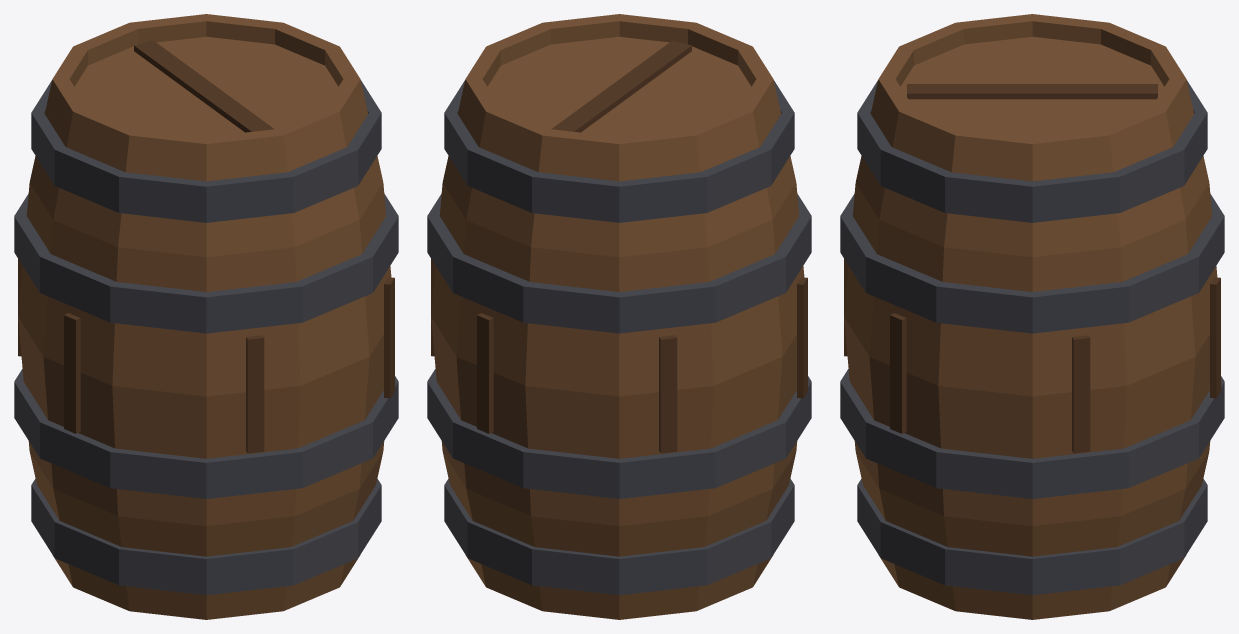
File: env_barrel.glb
The picture shows the model from 3 angles, left to right: view 1: azimuth 30°, elevation 25°; view 2: azimuth 150°, elevation 25°; view 3: azimuth 270°, elevation 25°; orthographic projection.
Parts seen in each view (by area): view 1: env_barrel; view 2: env_barrel; view 3: env_barrel.
Part boxes in pixels (bbox=[...]): env_barrel: bbox=[14, 14, 398, 619]; env_barrel: bbox=[427, 14, 811, 619]; env_barrel: bbox=[840, 14, 1224, 619].
Bounding box in the file's own units: 0.674 × 0.92 × 0.674.
